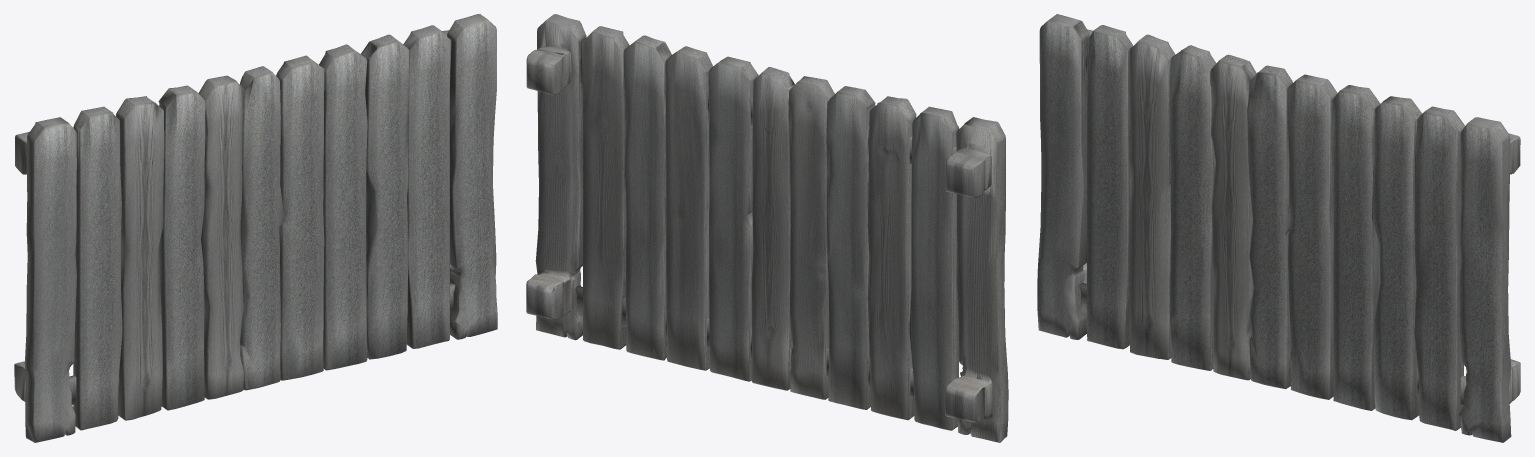
Rendered from fence_planks.glb.
The picture shows the model from 3 angles, left to right: view 1: azimuth 30°, elevation 25°; view 2: azimuth 150°, elevation 25°; view 3: azimuth 330°, elevation 25°; orthographic projection.
Bounding box in the file's own units: 0.9497 × 0.6138 × 0.104.
Materials: 1 (1 with a texture image).
